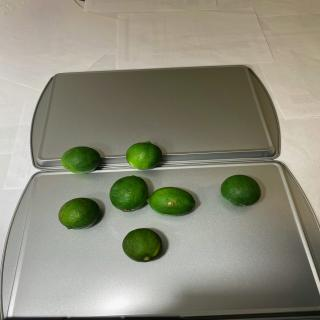Lemon: (146, 187, 196, 216), (109, 175, 148, 212), (58, 197, 100, 230), (122, 228, 162, 262), (220, 174, 261, 207), (61, 146, 100, 174), (126, 141, 162, 170)
